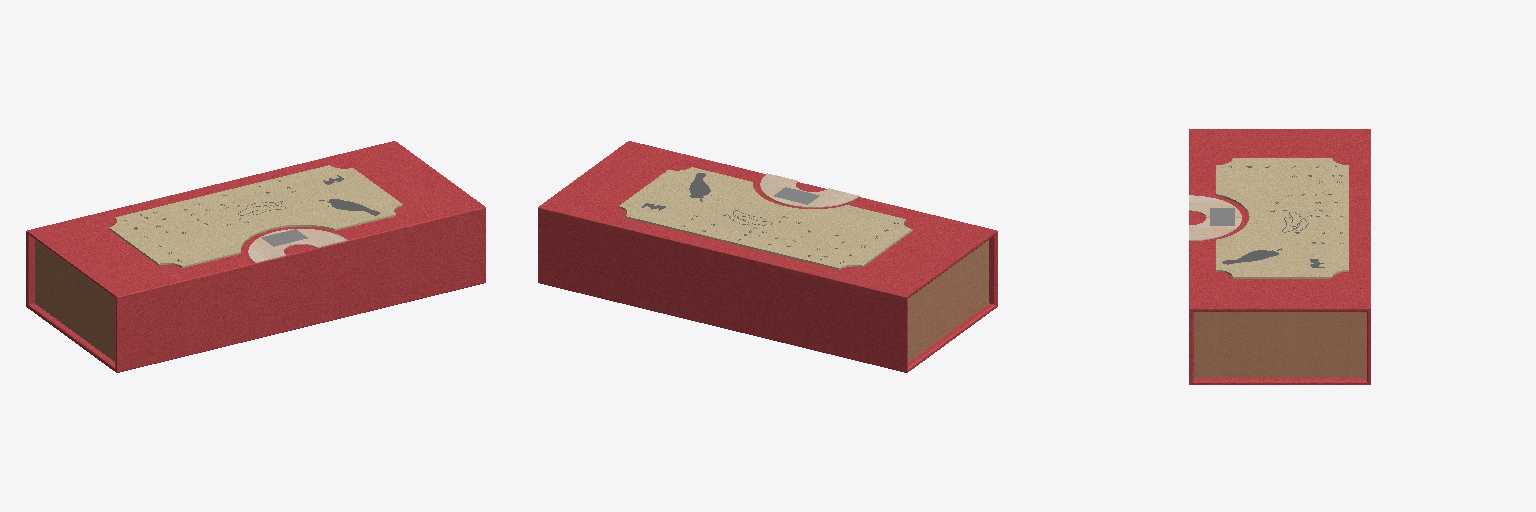
3 views of the same model, side by side, from view 1: azimuth 30°, elevation 25°; view 2: azimuth 150°, elevation 25°; view 3: azimuth 270°, elevation 25° (orthographic).
Parts seen in each view (by area): view 1: DirectConnectNode_19_DC_Shell, Plane001; view 2: DirectConnectNode_19_DC_Shell, Plane001; view 3: DirectConnectNode_19_DC_Shell, Plane001.
Boxes of the visible parts, <box> form: DirectConnectNode_19_DC_Shell: <box>26,141,485,372</box>; Plane001: <box>124,175,379,261</box>; DirectConnectNode_19_DC_Shell: <box>538,141,997,372</box>; Plane001: <box>642,173,898,263</box>; DirectConnectNode_19_DC_Shell: <box>1189,129,1370,384</box>; Plane001: <box>1222,166,1343,267</box>.
Size of the model in its own units: 420 by 85.01 by 180.
Materials: 6 (5 with a texture image).